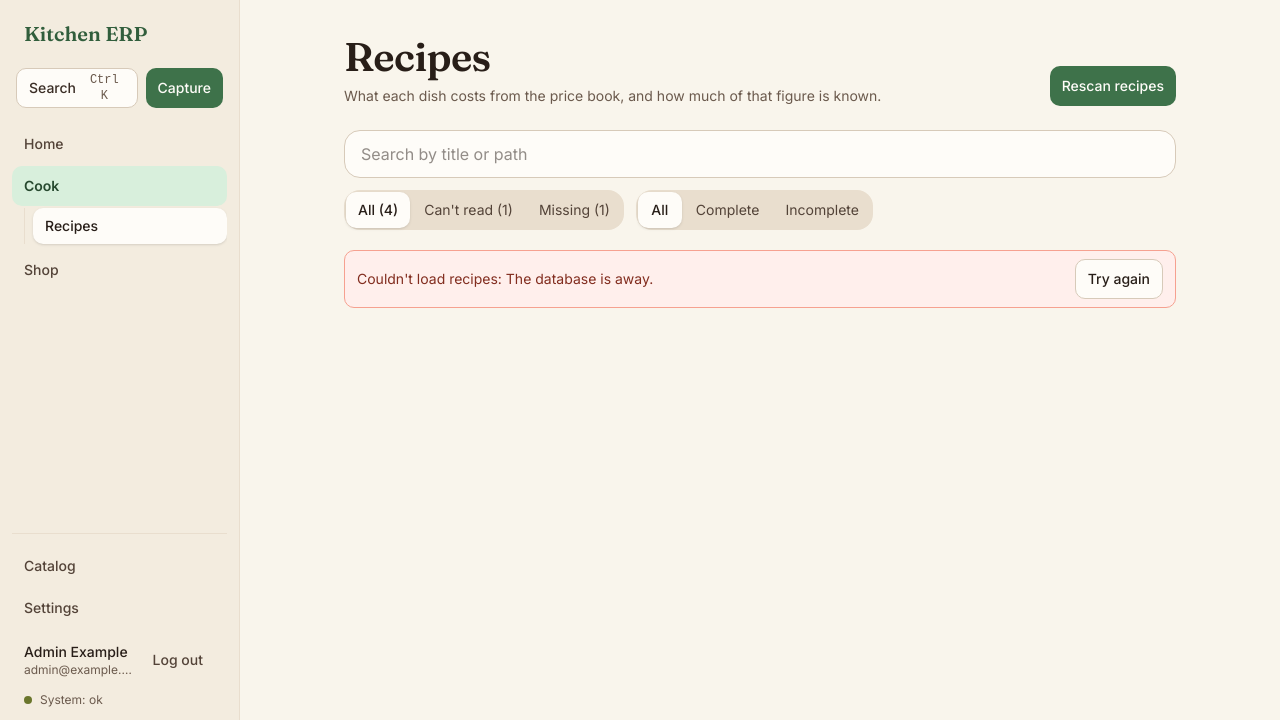
Scenario: the list's states (UI-7.5, UI-7.6) › shows a failed load as an alert with Try again, never the empty state
The width and height of the screenshot is (1280, 720).
Expected: the message "Couldn't load recipes: The database is away. Try again" is shown, [344,250,1176,308]
What coordinates should you click on to do the following:
click the button "Try again"
I would click on:
 (1119, 279)
Its box is [1075,259,1163,299].
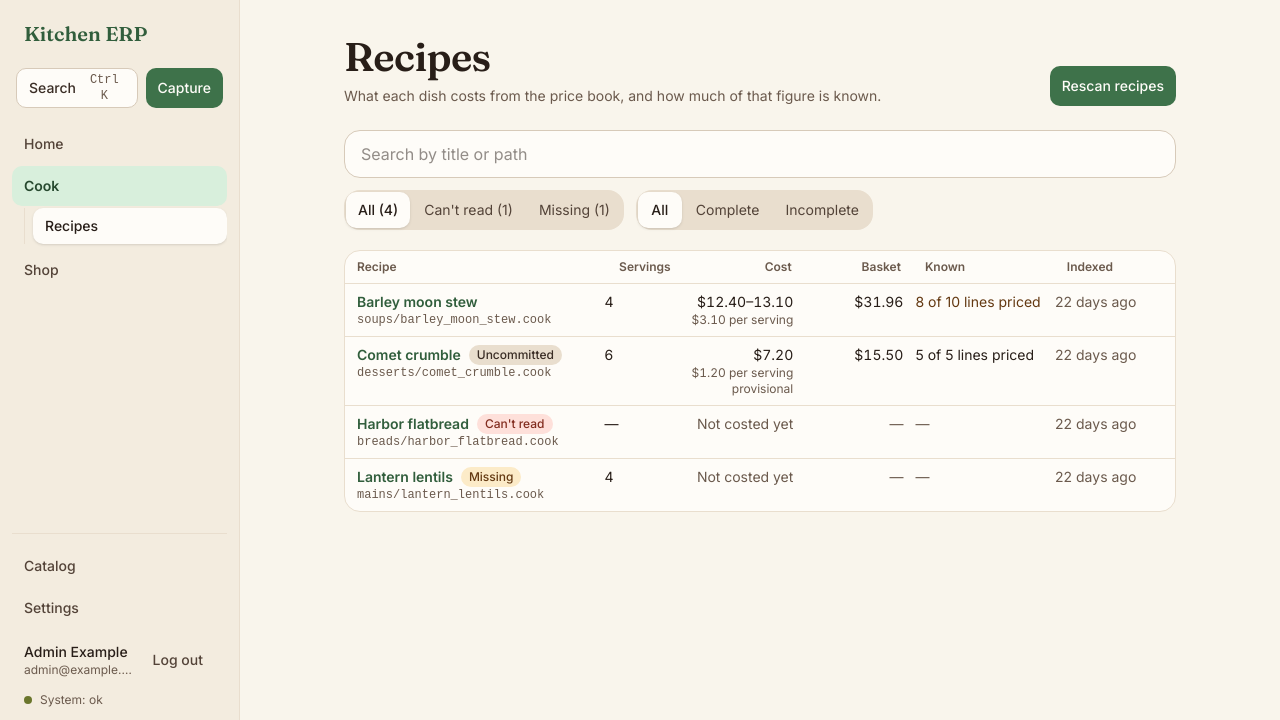
Result: the link "Barley moon stew" is shown at [357,292,478,312]
